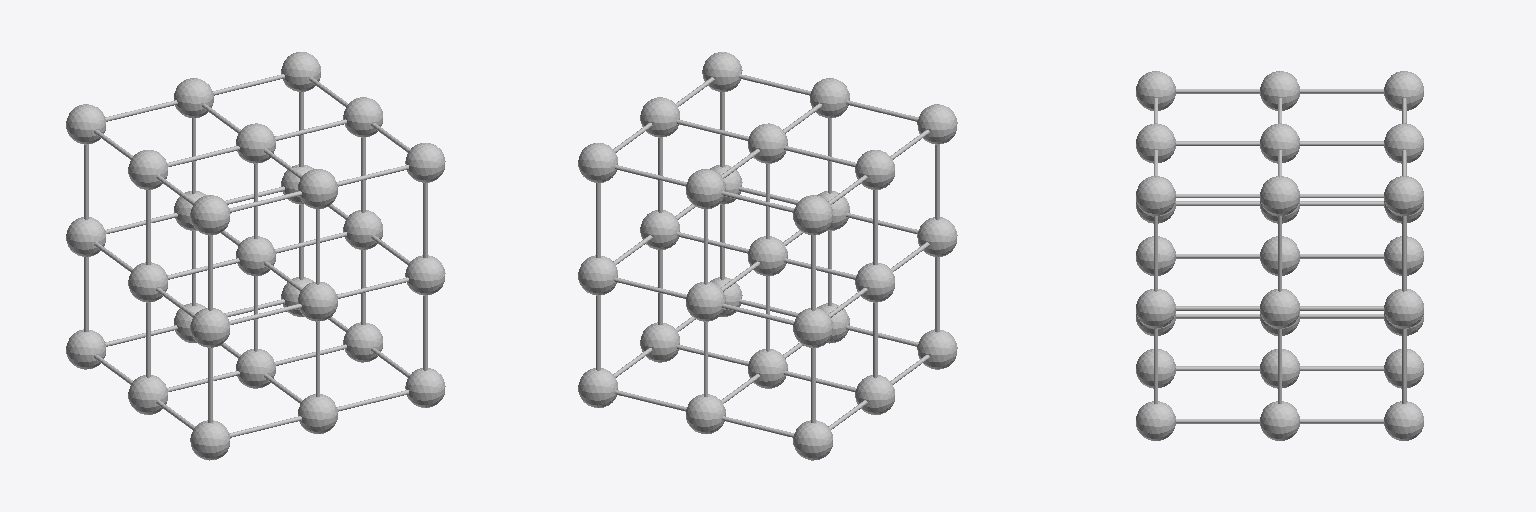
Rendered from MOLECULE.obj.
3 renders of one model, left to right at view 1: azimuth 30°, elevation 25°; view 2: azimuth 150°, elevation 25°; view 3: azimuth 270°, elevation 25°, orthographic.
Bounding box in the file's own units: 23.23 × 23.24 × 23.23.